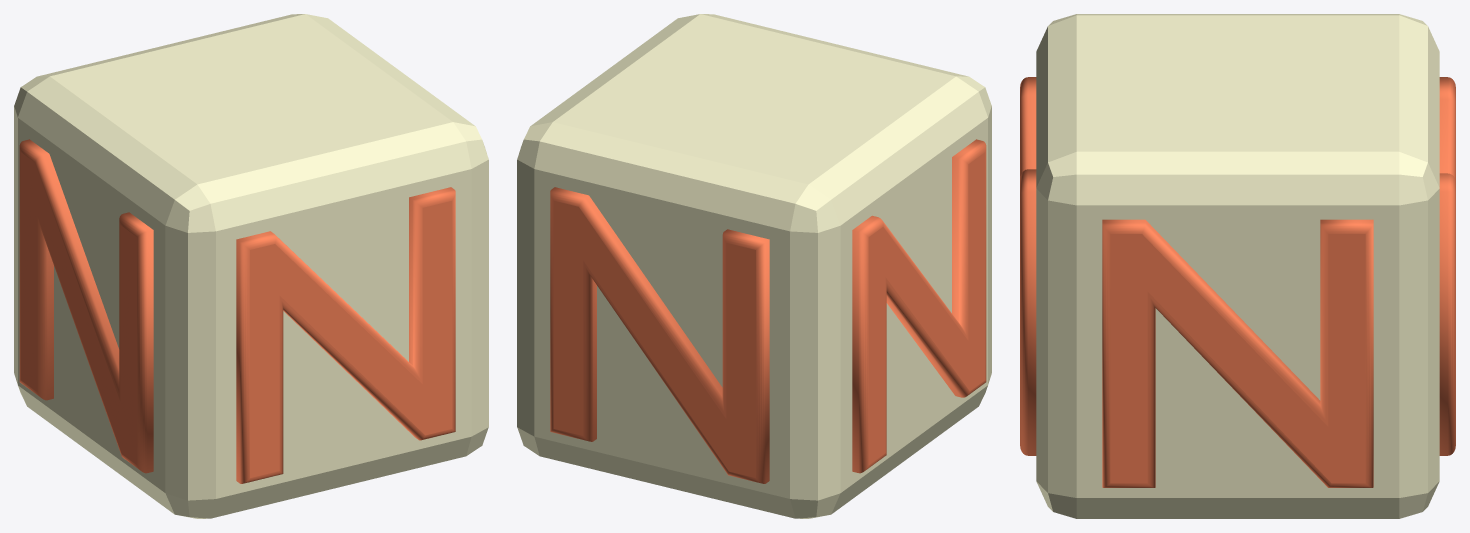
The picture shows the model from 3 angles, left to right: view 1: azimuth 30°, elevation 25°; view 2: azimuth 150°, elevation 25°; view 3: azimuth 270°, elevation 25°; orthographic projection. The views are drawn at different scales.
Parts seen in each view (by area): view 1: N; view 2: N; view 3: N.
Boxes of the visible parts, x1,y1,x2,y2 form: N: (14, 14, 488, 518); N: (517, 14, 991, 518); N: (1020, 14, 1455, 518).
Size of the model in its own units: 216 by 200 by 216.
